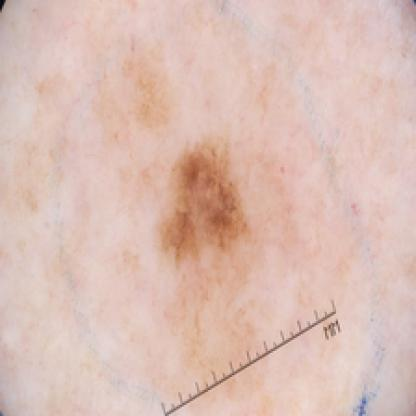malignant: (164, 143, 297, 273)
